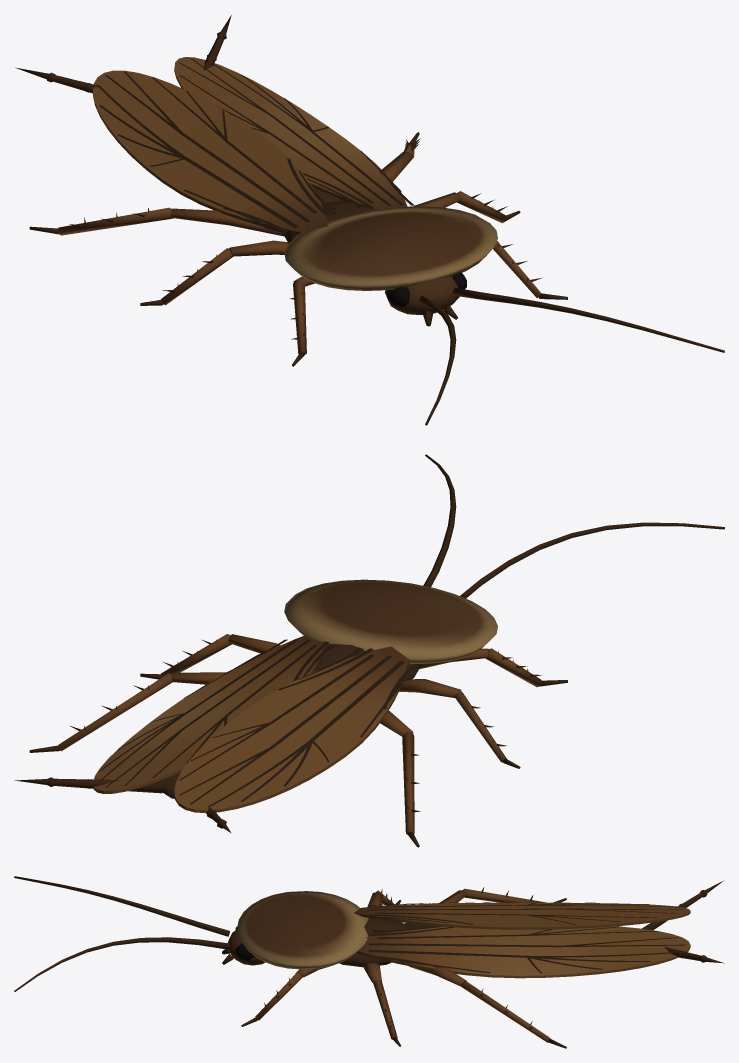
File: Archimylacris.fbx
The picture shows the model from 3 angles, top to bottom: view 1: azimuth 30°, elevation 25°; view 2: azimuth 150°, elevation 25°; view 3: azimuth 270°, elevation 25°; orthographic projection. The views are drawn at different scales.
Visible parts, largest first — view 1: Archimylacris; view 2: Archimylacris; view 3: Archimylacris.
Part boxes in pixels (bbox=[...]): Archimylacris: bbox=[15, 15, 724, 425]; Archimylacris: bbox=[14, 454, 724, 847]; Archimylacris: bbox=[14, 876, 724, 1048].
Size of the model in its own units: 0.8242 by 0.1575 by 1.66.
